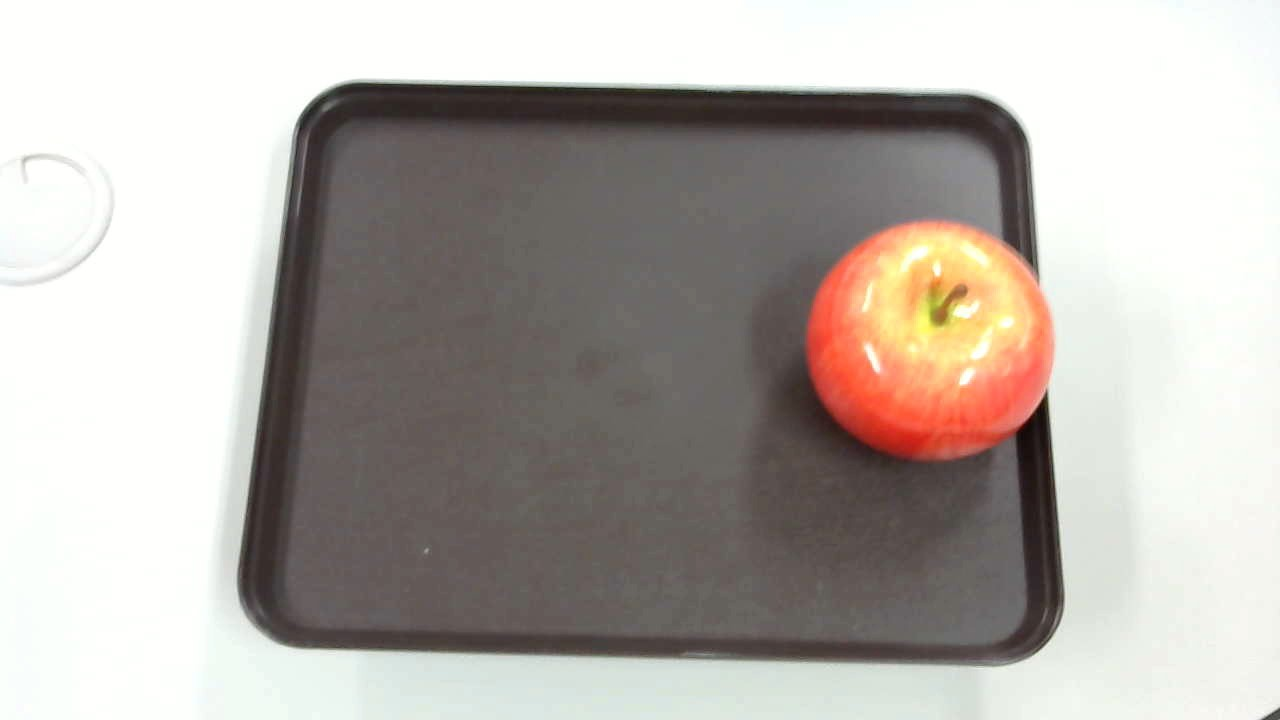red apple: (786, 213, 1061, 463)
